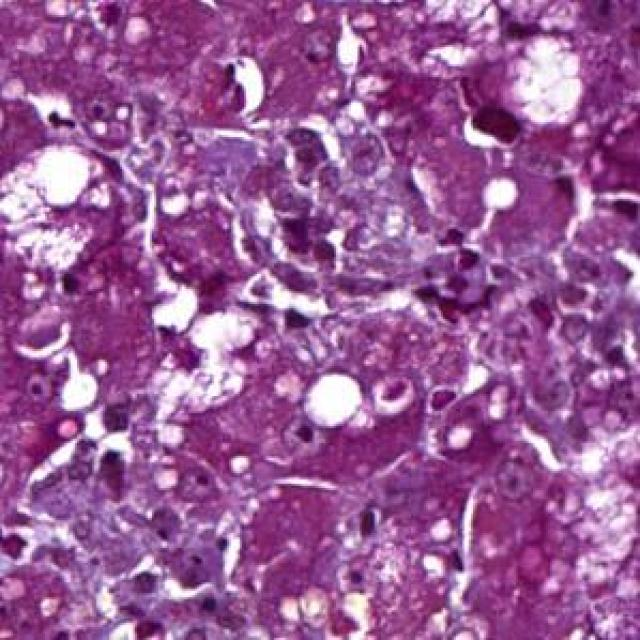ballooning: (4, 141, 122, 287), (458, 30, 593, 154), (144, 302, 266, 426)
